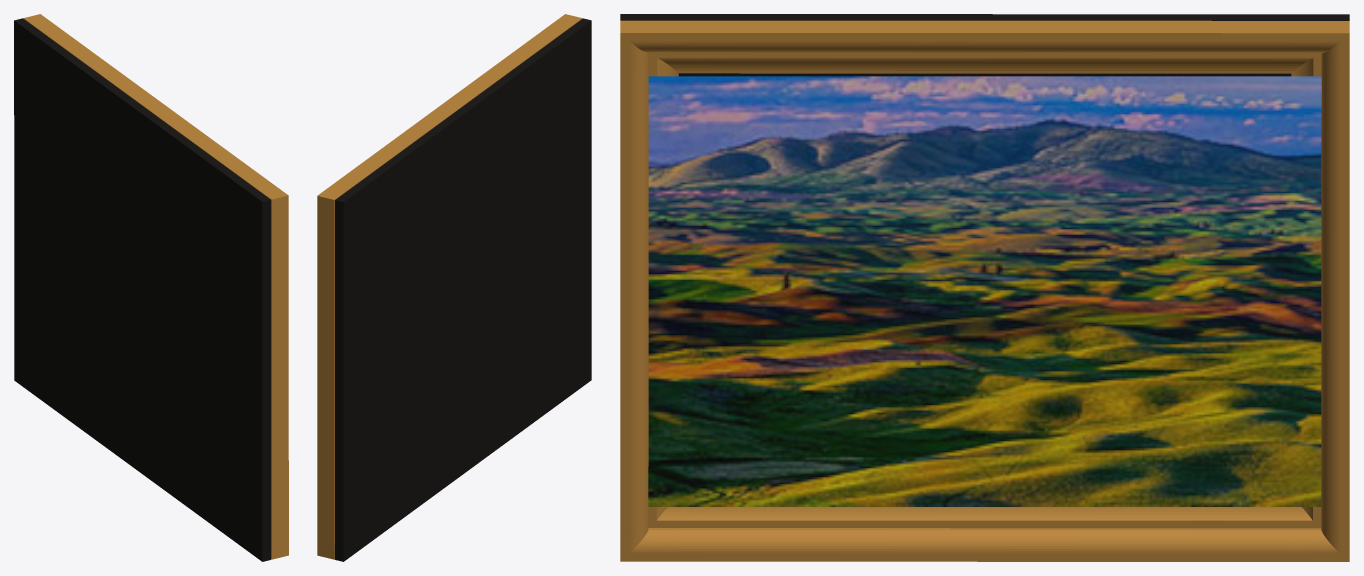
3 renders of one model, left to right at view 1: azimuth 30°, elevation 25°; view 2: azimuth 150°, elevation 25°; view 3: azimuth 270°, elevation 25°, orthographic. The views are drawn at different scales.
Visible parts, largest first — view 1: frame.001_3.001, back panel.001_2.001; view 2: frame.001_3.001, back panel.001_2.001; view 3: frame.001_3.001, back panel.001_2.001.
Part boxes in pixels (x1,y1,x2,y2): frame.001_3.001: (14,18,270,561); back panel.001_2.001: (23,14,288,559); frame.001_3.001: (335,18,591,561); back panel.001_2.001: (317,14,582,559); frame.001_3.001: (620,14,1349,506); back panel.001_2.001: (620,20,1349,561).
Size of the model in its own units: 1.05 by 13.7 by 17.12.
Materials: 3 (1 with a texture image).
